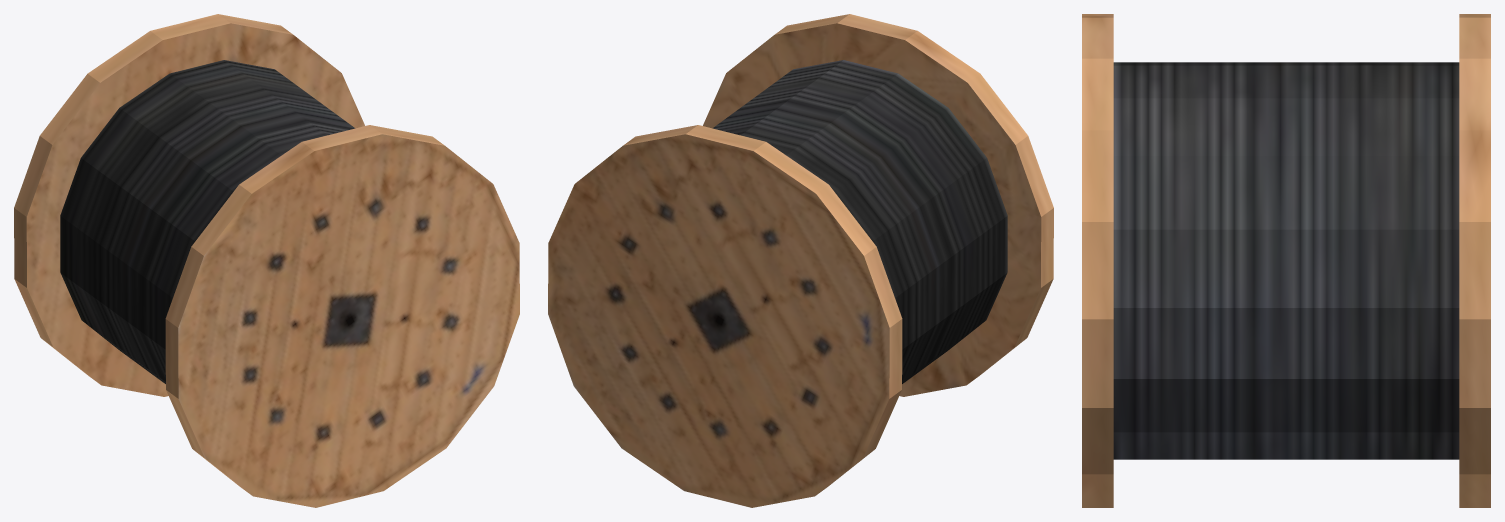
Rendered from cable_drum.fbx.
3 views of the same model, side by side, from view 1: azimuth 30°, elevation 25°; view 2: azimuth 150°, elevation 25°; view 3: azimuth 270°, elevation 25° (orthographic). The views are drawn at different scales.
Parts seen in each view (by area): view 1: CableDrum; view 2: CableDrum; view 3: CableDrum.
Part boxes in pixels (left/top/right/bottom): CableDrum: left=14, top=14, right=519, bottom=507; CableDrum: left=548, top=14, right=1053, bottom=507; CableDrum: left=1082, top=14, right=1490, bottom=507.
Size of the model in its own units: 118 by 118 by 98.08.
1 material, 1 textured.
